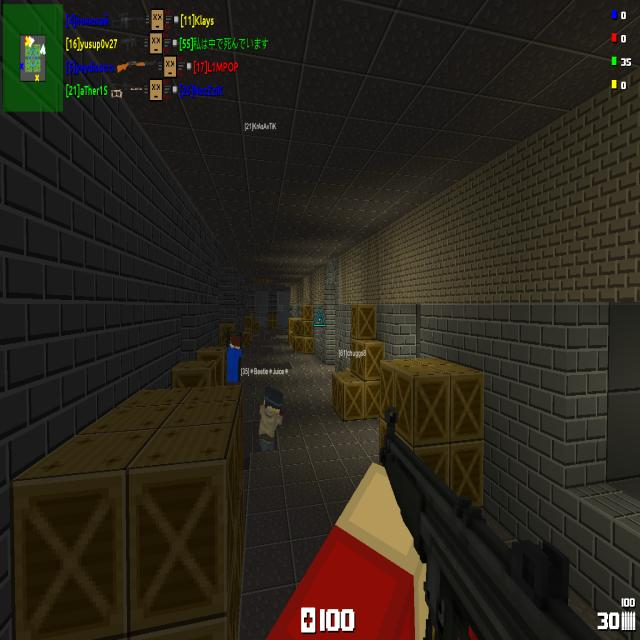enemy: (226, 334, 242, 386)
